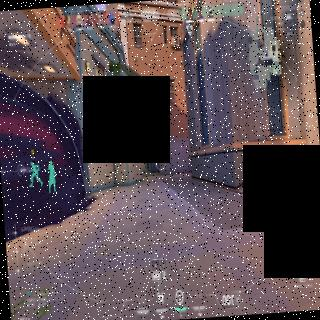ENEMY-BODY: (156, 156, 160, 174)
ENEMY-HEAD: (158, 157, 159, 160)
